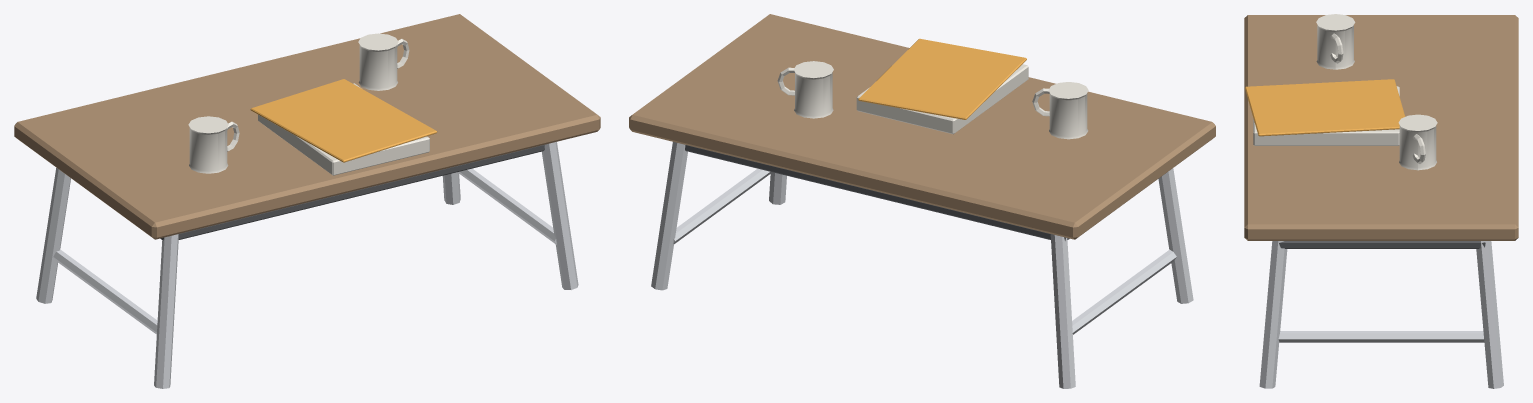
Rendered from 35524_Green_Room_Table__TV_Studio_and_Broadcast_Gallery_.glb.
3 renders of one model, left to right at view 1: azimuth 30°, elevation 25°; view 2: azimuth 150°, elevation 25°; view 3: azimuth 270°, elevation 25°, orthographic. The views are drawn at different scales.
Visible parts, largest first — view 1: green-room-table; view 2: green-room-table; view 3: green-room-table.
Part boxes in pixels (bbox=[...]): green-room-table: bbox=[14, 14, 600, 388]; green-room-table: bbox=[629, 14, 1215, 388]; green-room-table: bbox=[1244, 14, 1518, 388].
Size of the model in its own units: 1.1 by 0.5075 by 0.6.
